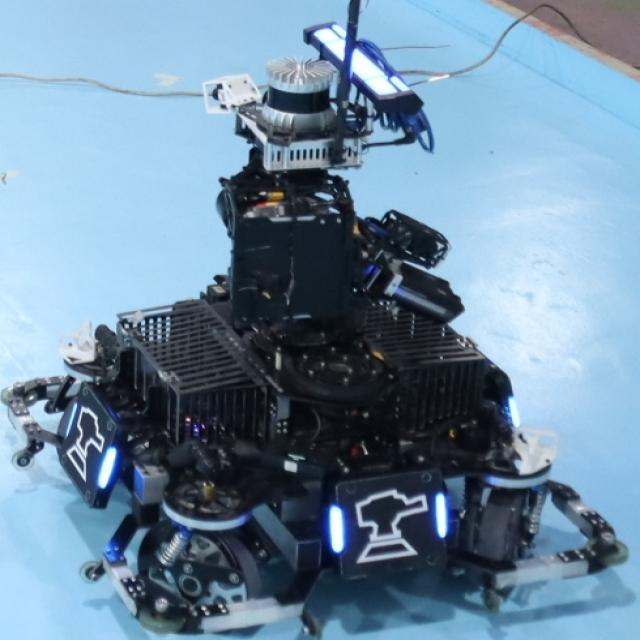Bs: (328, 486, 450, 567), (64, 396, 118, 496)
